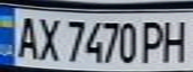0: (118, 18, 142, 64)
4: (81, 18, 106, 64)
7: (60, 17, 84, 63), (100, 18, 121, 64)
A: (12, 12, 42, 61)
H: (157, 16, 193, 63)
P: (139, 17, 169, 64)
X: (33, 14, 63, 62)
